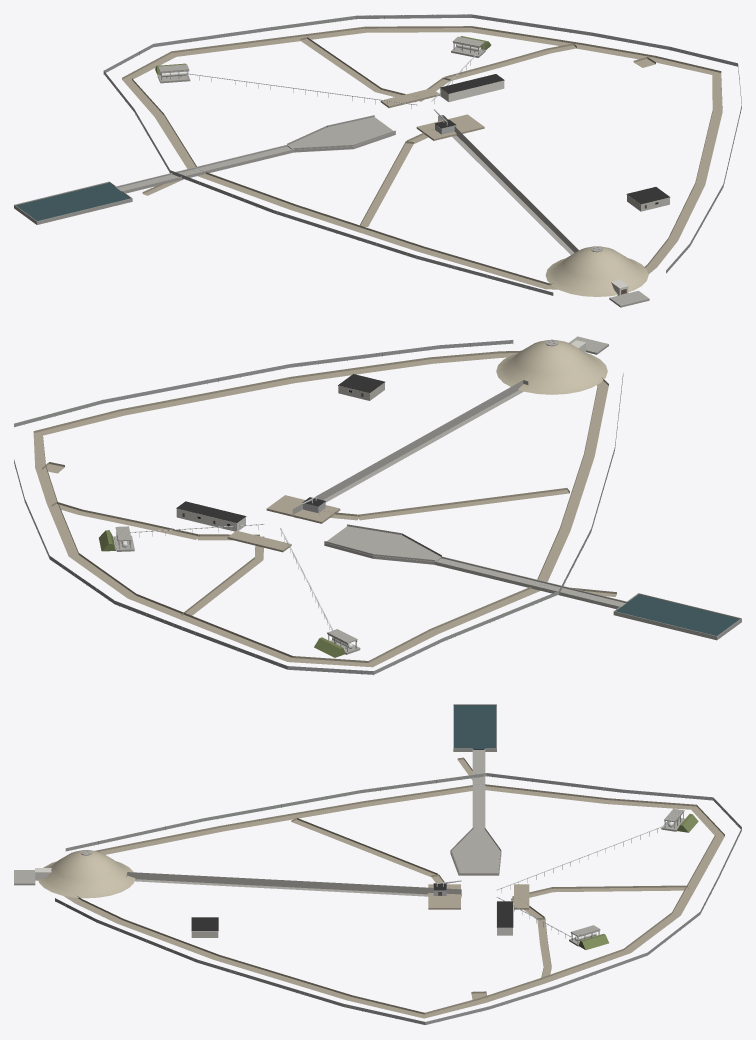
3 renders of one model, top to bottom at view 1: azimuth 30°, elevation 25°; view 2: azimuth 150°, elevation 25°; view 3: azimuth 270°, elevation 25°, orthographic. The views are drawn at different scales.
Visible parts, largest first — view 1: Roads_Shell, Fence_Mesh, Blockhouse_Sand, Flume_Concrete, Flume_ConcreteKerbs, Flume_Water, Cableway_Concrete, SupportBuilding_WhiteAnnex, SupportBuilding_Tar; view 2: Roads_Shell, Fence_Mesh, Blockhouse_Sand, Flume_Concrete, Flume_ConcreteKerbs, Cableway_Concrete, Flume_Water, SupportBuilding_WhiteAnnex, SupportBuilding_Tar, Fence_Galv; view 3: Roads_Shell, Fence_Mesh, Blockhouse_Sand, Cableway_Concrete, Flume_Concrete, Flume_Water, Flume_ConcreteKerbs.
Part boxes in pixels (x1,y1,x2,y2): Roads_Shell: [122, 26, 722, 289]; Fence_Mesh: [104, 14, 741, 295]; Blockhouse_Sand: [545, 246, 648, 296]; Flume_Concrete: [117, 117, 395, 191]; Flume_ConcreteKerbs: [14, 115, 395, 224]; Flume_Water: [16, 182, 130, 221]; Cableway_Concrete: [438, 115, 578, 254]; SupportBuilding_WhiteAnnex: [440, 81, 504, 101]; SupportBuilding_Tar: [440, 74, 504, 93]; Roads_Shell: [33, 350, 616, 667]; Fence_Mesh: [14, 340, 623, 674]; Blockhouse_Sand: [496, 339, 607, 394]; Flume_Concrete: [324, 526, 625, 606]; Flume_ConcreteKerbs: [324, 524, 741, 640]; Cableway_Concrete: [292, 380, 528, 518]; Flume_Water: [615, 594, 739, 635]; SupportBuilding_WhiteAnnex: [176, 509, 245, 531]; SupportBuilding_Tar: [176, 501, 246, 522]; Fence_Galv: [14, 340, 623, 675]; Roads_Shell: [63, 757, 724, 1018]; Fence_Mesh: [55, 773, 741, 1024]; Blockhouse_Sand: [38, 850, 135, 898]; Cableway_Concrete: [126, 872, 461, 897]; Flume_Concrete: [451, 706, 500, 875]; Flume_Water: [454, 705, 496, 749]; Flume_ConcreteKerbs: [450, 704, 501, 875].
Size of the model in its own units: 431 by 17.07 by 416.
